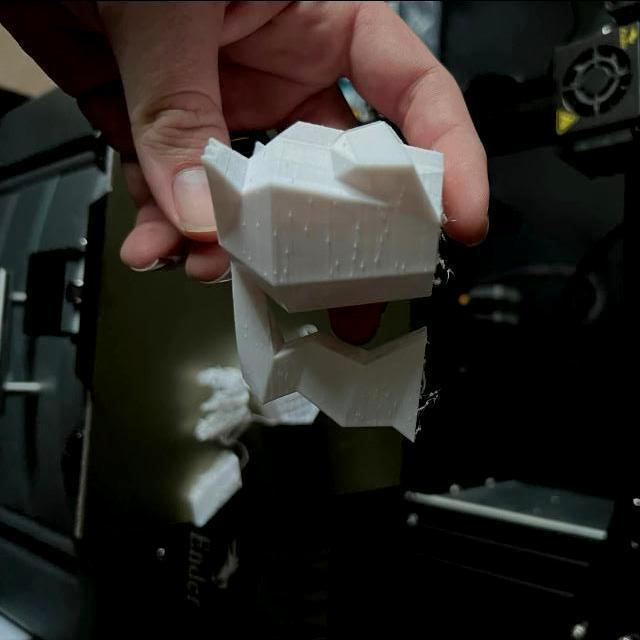zits: (396, 260, 411, 274), (369, 252, 382, 264), (300, 222, 310, 234), (286, 206, 296, 218), (270, 228, 279, 240), (350, 238, 360, 248), (281, 264, 291, 274), (352, 220, 362, 230), (332, 255, 342, 265), (356, 260, 366, 270), (382, 224, 391, 234), (322, 236, 332, 244), (350, 254, 359, 262), (271, 266, 278, 276), (255, 218, 262, 228), (246, 252, 253, 262), (285, 247, 291, 255)
